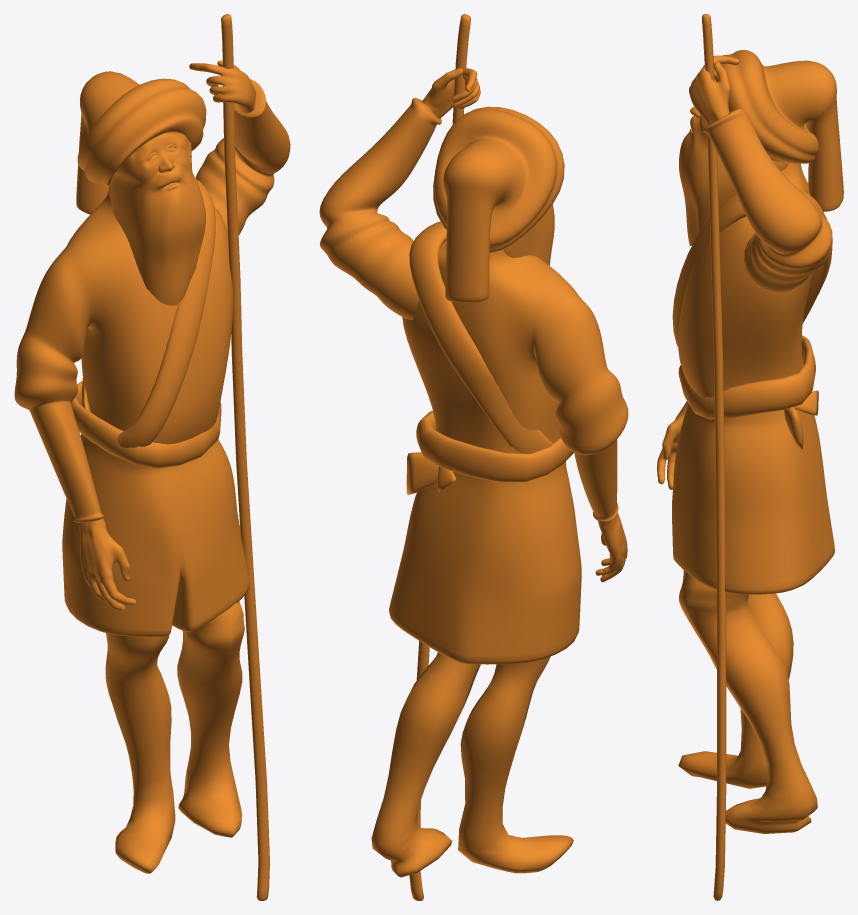
Rendered from Figur_Sonnenuhr.v14.fbx.
3 renders of one model, left to right at view 1: azimuth 30°, elevation 25°; view 2: azimuth 150°, elevation 25°; view 3: azimuth 270°, elevation 25°, orthographic. The views are drawn at different scales.
Visible parts, largest first — view 1: Arm_L.002, Leg_R, PhilippHead.001, Leg_L, Hut, stab, Arm_L, Band1, BandTaille, Arm_L.003, hand_L; view 2: Arm_L.002, Hut, Arm_L, Leg_R, Leg_L, Band1, BandTaille, hand_L, stab, PhilippHead.001, Arm_L.003, BandTaille.001; view 3: Arm_L.002, Leg_L, Arm_L, Hut, stab, Leg_R, BandTaille, PhilippHead.001, Band1, hand_L, Arm_L.003, BandTaille.001.
Boxes of the visible parts, x1=… form: Arm_L.002: x1=14, y1=185, x2=249, y2=636; Leg_R: x1=105, y1=633, x2=175, y2=873; PhilippHead.001: x1=109, y1=132, x2=205, y2=305; Leg_L: x1=177, y1=601, x2=244, y2=837; Hut: x1=76, y1=71, x2=206, y2=214; stab: x1=221, y1=14, x2=269, y2=900; Arm_L: x1=195, y1=79, x2=290, y2=235; Band1: x1=81, y1=179, x2=215, y2=453; BandTaille: x1=71, y1=381, x2=221, y2=468; Arm_L.003: x1=78, y1=518, x2=136, y2=610; hand_L: x1=189, y1=60, x2=255, y2=113; Arm_L.002: x1=389, y1=240, x2=628, y2=664; Hut: x1=433, y1=106, x2=564, y2=302; Arm_L: x1=319, y1=98, x2=441, y2=319; Leg_R: x1=458, y1=656, x2=573, y2=873; Leg_L: x1=371, y1=652, x2=480, y2=877; Band1: x1=409, y1=221, x2=552, y2=453; BandTaille: x1=416, y1=410, x2=573, y2=482; hand_L: x1=422, y1=68, x2=480, y2=118; stab: x1=409, y1=14, x2=470, y2=900; PhilippHead.001: x1=503, y1=204, x2=554, y2=265; Arm_L.003: x1=595, y1=512, x2=627, y2=582; BandTaille.001: x1=406, y1=452, x2=438, y2=494; Arm_L.002: x1=672, y1=162, x2=834, y2=594; Leg_L: x1=679, y1=570, x2=817, y2=833; Arm_L: x1=703, y1=108, x2=832, y2=293; Hut: x1=714, y1=50, x2=843, y2=211; stab: x1=702, y1=14, x2=726, y2=900; Leg_R: x1=678, y1=593, x2=793, y2=788; BandTaille: x1=678, y1=335, x2=815, y2=419; PhilippHead.001: x1=679, y1=106, x2=788, y2=245; Band1: x1=672, y1=189, x2=832, y2=346; hand_L: x1=689, y1=55, x2=739, y2=125; Arm_L.003: x1=657, y1=401, x2=688, y2=489; BandTaille.001: x1=784, y1=407, x2=803, y2=450.
Bounding box in the file's own units: 93.86 × 284 × 55.62.
